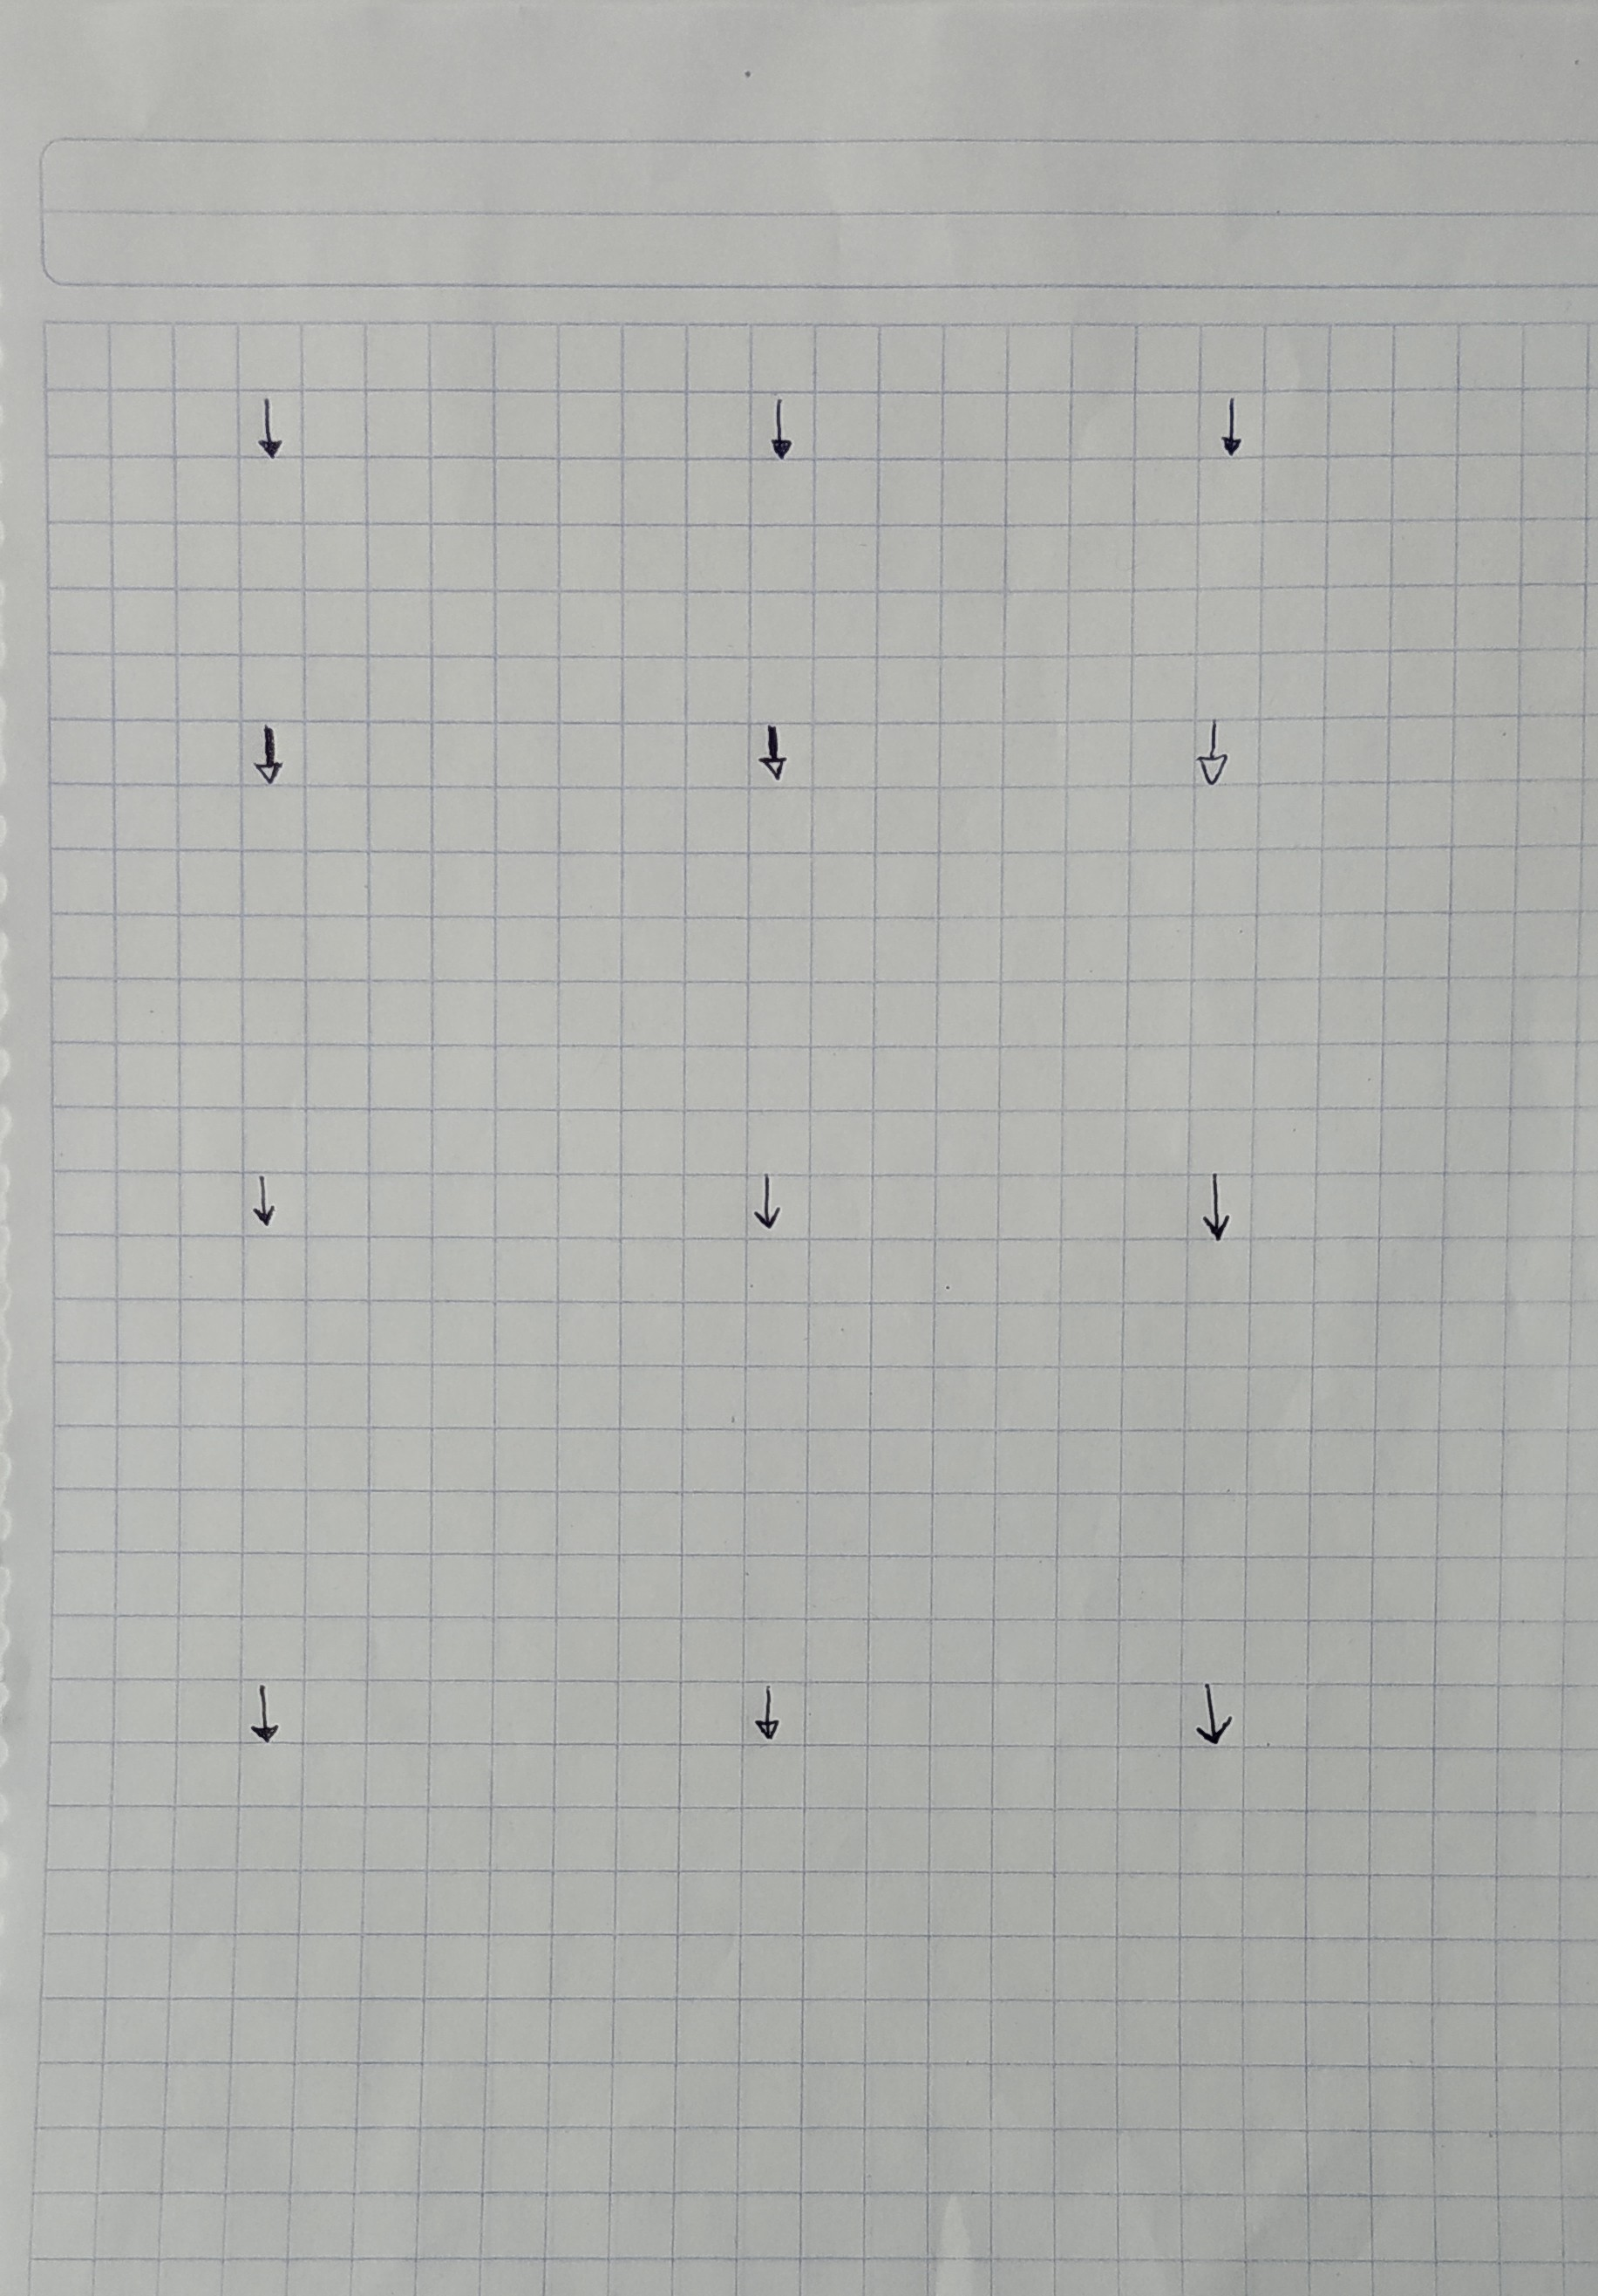arrow_line_down: (1183, 1677, 1237, 1757), (1192, 1164, 1237, 1244), (752, 715, 794, 790), (246, 721, 286, 792), (1193, 715, 1230, 790), (745, 1169, 783, 1240), (759, 394, 797, 462), (244, 1675, 279, 1746), (251, 393, 286, 462), (1214, 389, 1247, 462), (747, 1684, 783, 1743), (249, 1171, 276, 1232)
